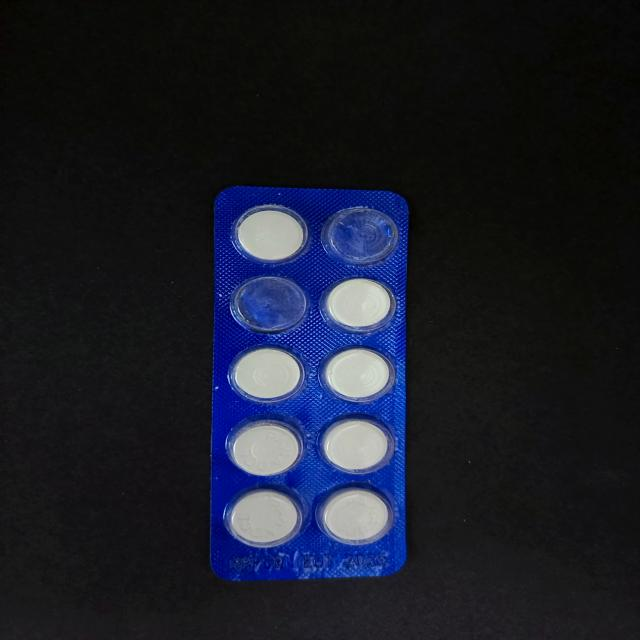defect: (320, 205, 404, 265), (228, 274, 308, 334)
